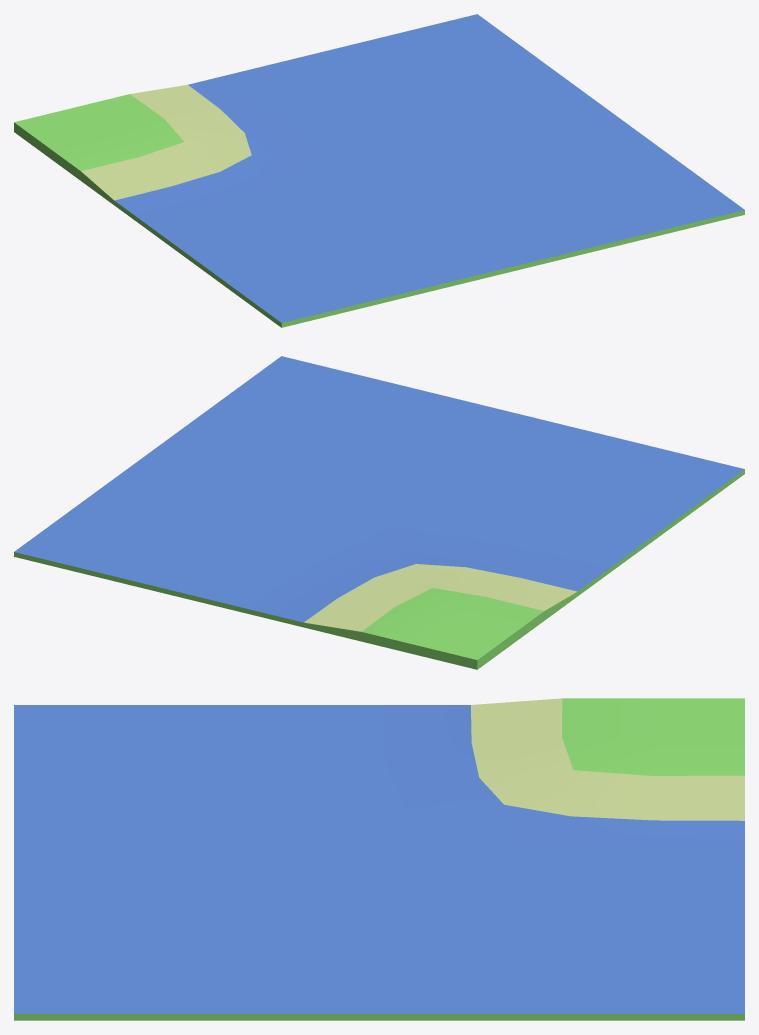
File: water_concave_1.glb
3 renders of one model, top to bottom at view 1: azimuth 30°, elevation 25°; view 2: azimuth 150°, elevation 25°; view 3: azimuth 270°, elevation 25°, orthographic. The views are drawn at different scales.
Parts seen in each view (by area): view 1: water_concave_1; view 2: water_concave_1; view 3: water_concave_1.
Part boxes in pixels (box(x1,y1,x2,y2)): water_concave_1: box(14, 14, 744, 327); water_concave_1: box(14, 356, 744, 669); water_concave_1: box(14, 698, 744, 1020).
Bounding box in the file's own units: 2 × 0.0402 × 2.
